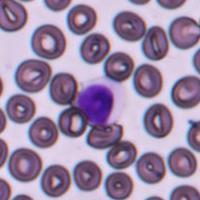L: (75, 79, 126, 127)
